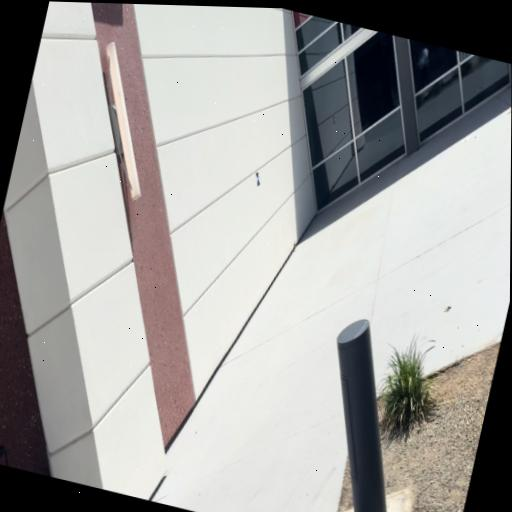target7: (255, 171, 260, 186)
